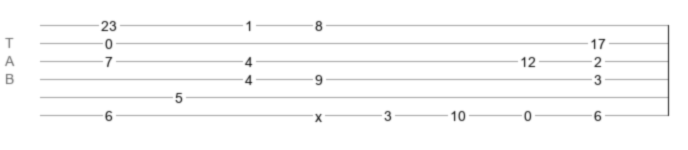0: (105, 36, 113, 46), (524, 108, 532, 118)
1: (245, 18, 253, 28)
10: (450, 108, 466, 118)
12: (520, 54, 536, 64)
17: (590, 36, 606, 46)
2: (594, 54, 602, 64)
23: (101, 18, 117, 28)
3: (384, 108, 392, 118), (594, 72, 602, 82)
4: (245, 54, 253, 64), (245, 72, 253, 82)
5: (175, 90, 183, 100)
6: (105, 108, 113, 118), (594, 108, 602, 118)
7: (105, 54, 113, 64)
8: (315, 18, 323, 28)
9: (315, 72, 323, 82)
x: (315, 109, 322, 117)
